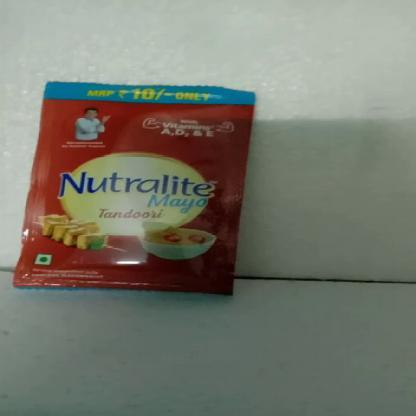Nutralite TANDOORI MAYO 30g: (53, 87, 231, 291)
